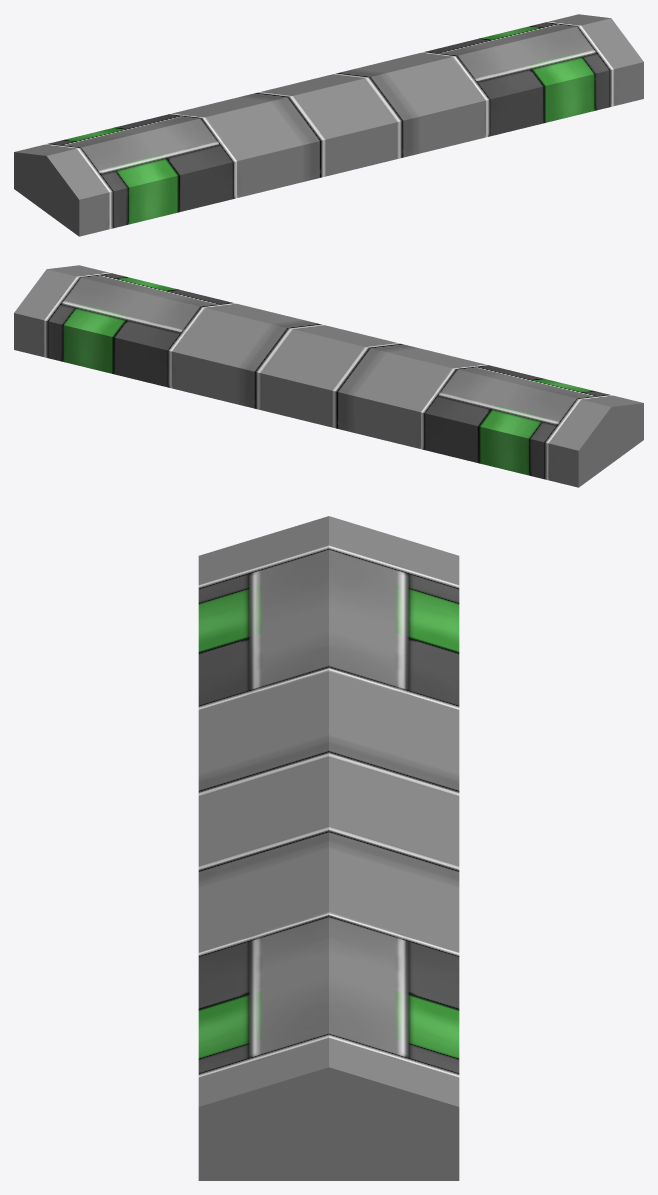
File: space_floor_teeth.gltf
The picture shows the model from 3 angles, top to bottom: view 1: azimuth 30°, elevation 25°; view 2: azimuth 150°, elevation 25°; view 3: azimuth 270°, elevation 25°; orthographic projection. The views are drawn at different scales.
Parts seen in each view (by area): view 1: space_floor_teeth_glb; view 2: space_floor_teeth_glb; view 3: space_floor_teeth_glb.
Part boxes in pixels (x1,y1,x2,y2): space_floor_teeth_glb: (14, 14, 643, 236); space_floor_teeth_glb: (14, 265, 643, 487); space_floor_teeth_glb: (198, 516, 459, 1180).
Size of what is drawn, in the model's own units: 4 by 0.3849 by 0.8.
Materials: 1 (1 with a texture image).
